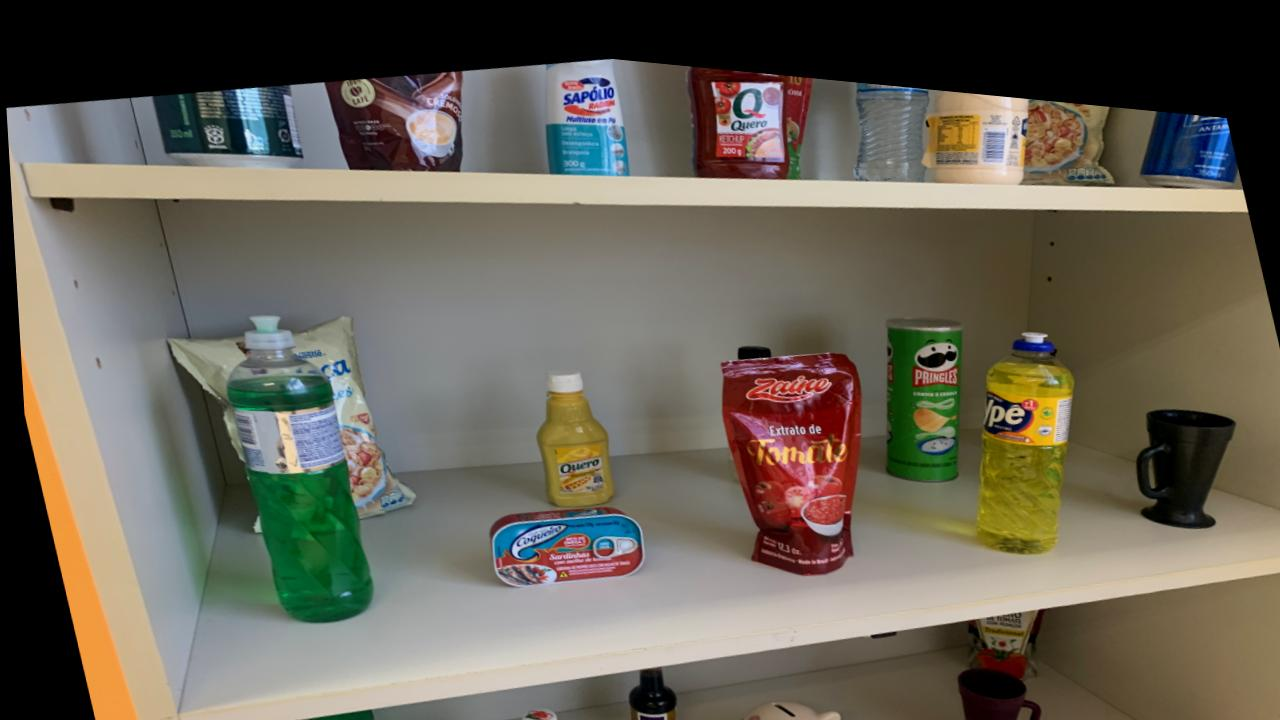Cleaner-Cleanup_Items: (544, 46, 627, 163)
Coffee-Pantry_Items: (324, 61, 462, 163)
Detergent-Cleanup_Items: (221, 311, 366, 616), (970, 311, 1070, 533), (298, 702, 366, 720)
English_Sauce-Pantry_Items: (620, 654, 669, 720), (299, 490, 315, 509)
Flakes-Snacks: (288, 308, 410, 510), (164, 332, 244, 453), (1021, 78, 1114, 163)
Guarana-Drinks: (512, 698, 550, 720)
Guarana_Can-Drinks: (151, 79, 301, 163)
Ketchup-Pantry_Items: (687, 52, 788, 163)
Mayonnaise-Pantry_Items: (920, 71, 1029, 164)
Mustard-Pantry_Items: (531, 359, 609, 496), (949, 702, 989, 720)
Pig_Safe-Miscellaneous: (731, 685, 834, 720)
Pringles-Snacks: (881, 298, 960, 463)
Tomato_Sauce-Pantry_Items: (716, 335, 858, 560), (960, 588, 1037, 657), (783, 60, 813, 163)
Tonic-Drinks: (1139, 88, 1238, 164)
Tuna_Can-Pantry_Items: (482, 494, 639, 577), (483, 494, 639, 577)
Water_Bottle-Drinks: (853, 65, 929, 164)
